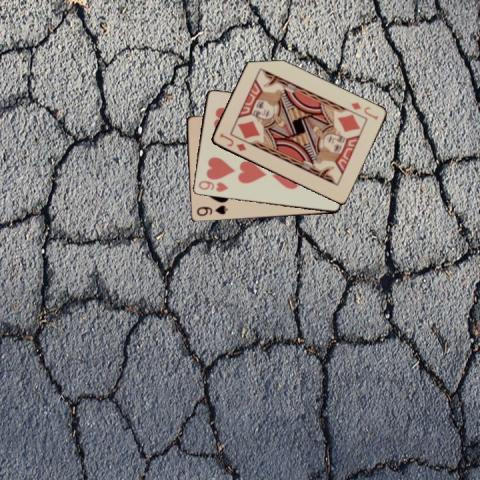9h: (196, 178, 229, 193)
9s: (193, 203, 229, 217)
Jd: (216, 130, 248, 153), (348, 99, 379, 122)
